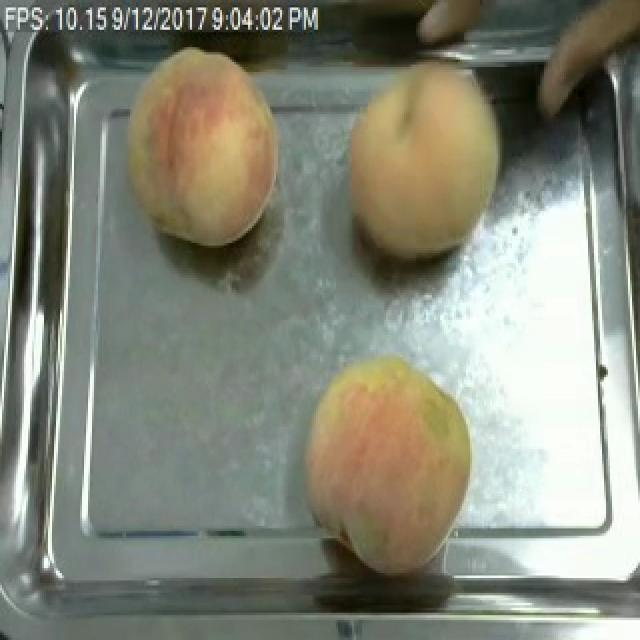Fruit: (292, 342, 482, 580), (108, 37, 290, 256), (332, 52, 514, 270)
